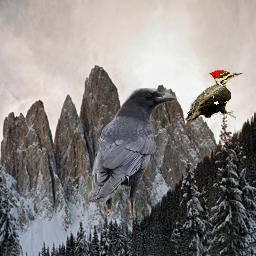Crow: (85, 88, 177, 218)
Woodpecker: (185, 70, 243, 121)
